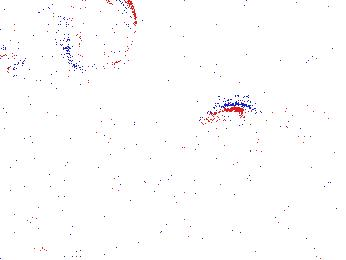moon jellyfish: (1, 1, 76, 85), (187, 103, 262, 169), (69, 1, 138, 71), (299, 82, 346, 148)
